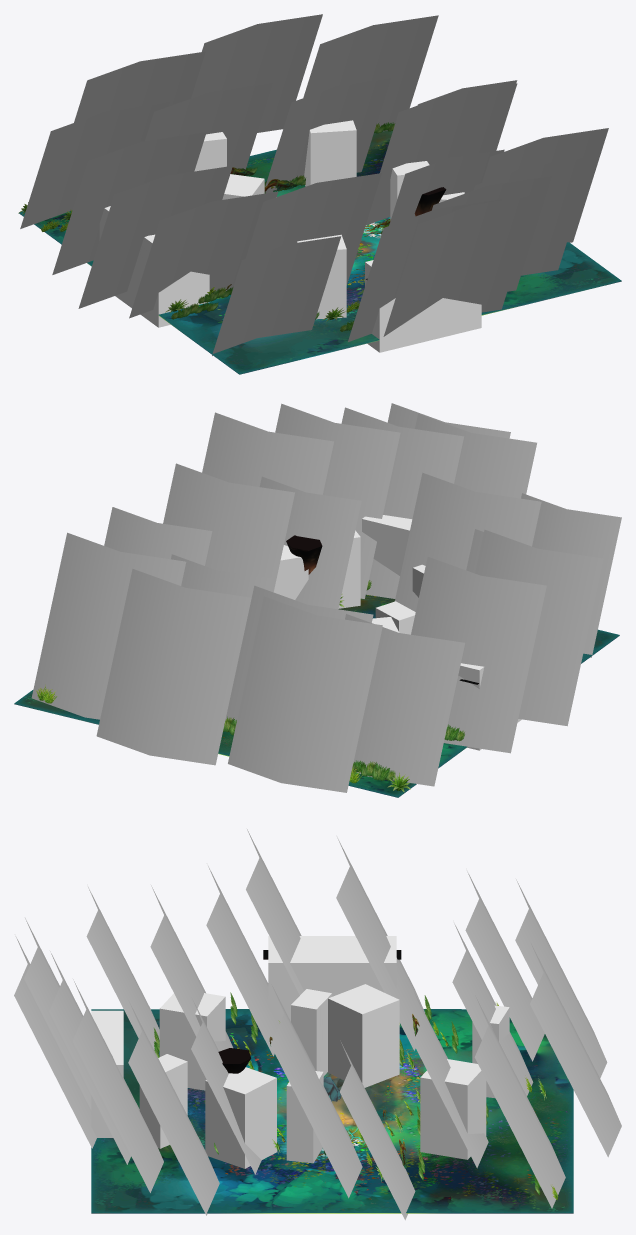
The model's file is FieldDungeon_02_001_Road_L_003.fbx.
The picture shows the model from 3 angles, top to bottom: view 1: azimuth 30°, elevation 25°; view 2: azimuth 150°, elevation 25°; view 3: azimuth 270°, elevation 25°; orthographic projection. The views are drawn at different scales.
Visible parts, largest first — view 1: FieldArea_02_001_tree_1_AA, FieldArea_02_001_tree_1_BB, FieldDungeon_02_001_Door_Back_001, FieldDungeon_02_001_Door_Right_001, FieldArea_02_001_ground2, DoorWay_NavMask (1) (×4), Cube_08, FieldArea_02_001_kusa, FieldDungeon_02_001_Door_Right_001_shadow, Cube_01, Cube_06, Cube_02 (+2 smaller); view 2: FieldArea_02_001_tree_1_BB, FieldArea_02_001_tree_1_AA, FieldDungeon_02_001_Door_Right_001, FieldDungeon_02_001_Door_Back_001, FieldArea_02_001_ground2, DoorWay_NavMask (1), FieldArea_02_001_kusa, Cube_07, Cube_03, Dungeon_011_Object_010, Cube_05; view 3: FieldArea_02_001_ground2, FieldArea_02_001_tree_1_AA, FieldArea_02_001_tree_1_BB, DoorWay_NavMask (1) (×2), FieldDungeon_02_001_Door_Back_001, FieldDungeon_02_001_Door_Right_001, Cube_02, Cube_07, Cube_08, Cube_01, FieldDungeon_02_001_Door_Right_001_shadow, FieldArea_02_001_kusa (+6 smaller).
Boxes of the visible parts, bbox=[...] form: FieldArea_02_001_tree_1_AA: bbox=[129, 80, 608, 355]; FieldArea_02_001_tree_1_BB: bbox=[20, 14, 438, 228]; FieldDungeon_02_001_Door_Back_001: bbox=[348, 176, 551, 341]; FieldDungeon_02_001_Door_Right_001: bbox=[52, 132, 232, 308]; FieldArea_02_001_ground2: bbox=[19, 130, 621, 374]; DoorWay_NavMask (1) (×4): bbox=[99, 206, 481, 352]; Cube_08: bbox=[304, 120, 356, 186]; FieldArea_02_001_kusa: bbox=[18, 122, 395, 331]; FieldDungeon_02_001_Door_Right_001_shadow: bbox=[87, 260, 230, 346]; Cube_01: bbox=[297, 234, 346, 319]; Cube_06: bbox=[194, 132, 226, 171]; Cube_02: bbox=[222, 174, 264, 199]; FieldArea_02_001_tree_1_BB: bbox=[31, 532, 464, 792]; FieldArea_02_001_tree_1_AA: bbox=[104, 403, 621, 657]; FieldDungeon_02_001_Door_Right_001: bbox=[411, 529, 603, 753]; FieldDungeon_02_001_Door_Back_001: bbox=[341, 403, 536, 598]; FieldArea_02_001_ground2: bbox=[14, 598, 619, 797]; DoorWay_NavMask (1): bbox=[362, 515, 412, 575]; FieldArea_02_001_kusa: bbox=[36, 580, 464, 792]; Cube_07: bbox=[273, 545, 308, 599]; Cube_03: bbox=[338, 530, 360, 608]; Dungeon_011_Object_010: bbox=[286, 535, 322, 574]; Cube_05: bbox=[375, 601, 415, 634]; FieldArea_02_001_ground2: bbox=[91, 1009, 573, 1212]; FieldArea_02_001_tree_1_AA: bbox=[72, 866, 415, 1220]; FieldArea_02_001_tree_1_BB: bbox=[413, 871, 621, 1208]; DoorWay_NavMask (1) (×2): bbox=[91, 936, 396, 1137]; FieldDungeon_02_001_Door_Back_001: bbox=[14, 918, 131, 1164]; FieldDungeon_02_001_Door_Right_001: bbox=[246, 829, 424, 1050]; Cube_02: bbox=[328, 984, 399, 1087]; Cube_07: bbox=[205, 1067, 276, 1168]; Cube_08: bbox=[420, 1059, 486, 1159]; Cube_01: bbox=[159, 993, 225, 1090]; FieldDungeon_02_001_Door_Right_001_shadow: bbox=[225, 1009, 461, 1076]; FieldArea_02_001_kusa: bbox=[154, 992, 558, 1200].
Size of what is drawn, in the model's own units: 17.49 by 5.86 by 18.92.
